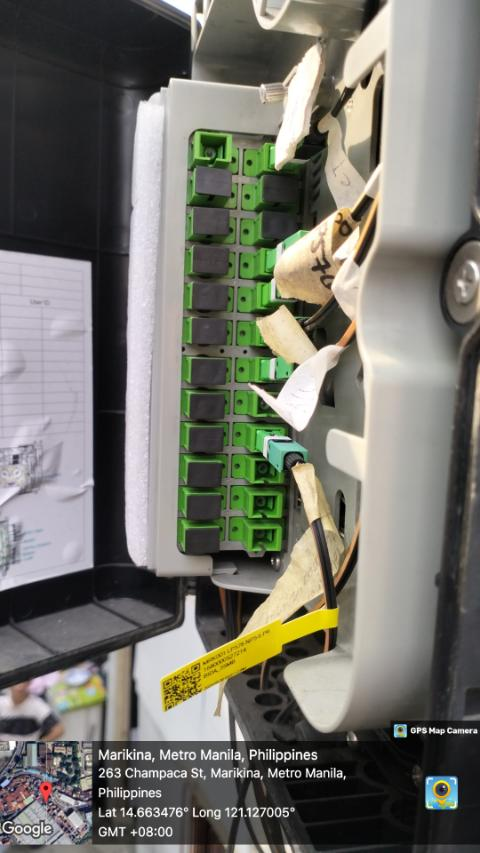no dust cap: (255, 391, 289, 417), (249, 528, 281, 553), (251, 459, 283, 483), (250, 494, 281, 517)
occupied: (254, 427, 312, 488), (270, 117, 330, 175), (265, 225, 324, 281), (260, 262, 325, 312), (258, 313, 318, 348), (258, 352, 310, 387)
vacant: (262, 210, 296, 240), (195, 167, 231, 195), (195, 208, 230, 236), (263, 176, 299, 203), (191, 358, 226, 385), (193, 284, 229, 310), (194, 246, 228, 273), (189, 427, 224, 453), (186, 494, 222, 519), (192, 318, 225, 345), (190, 394, 224, 420), (188, 463, 222, 488), (186, 528, 220, 553)
